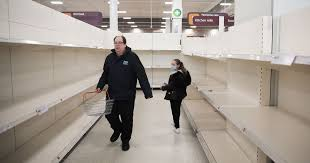Good: (93, 35, 191, 97)
